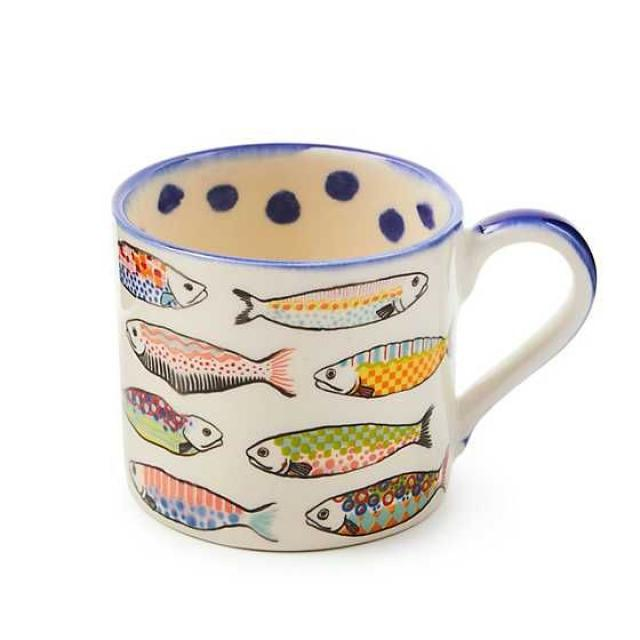glass cup: (110, 142, 597, 553)
